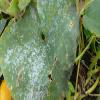Squash Powdery mildew leaf: (4, 2, 74, 99)
